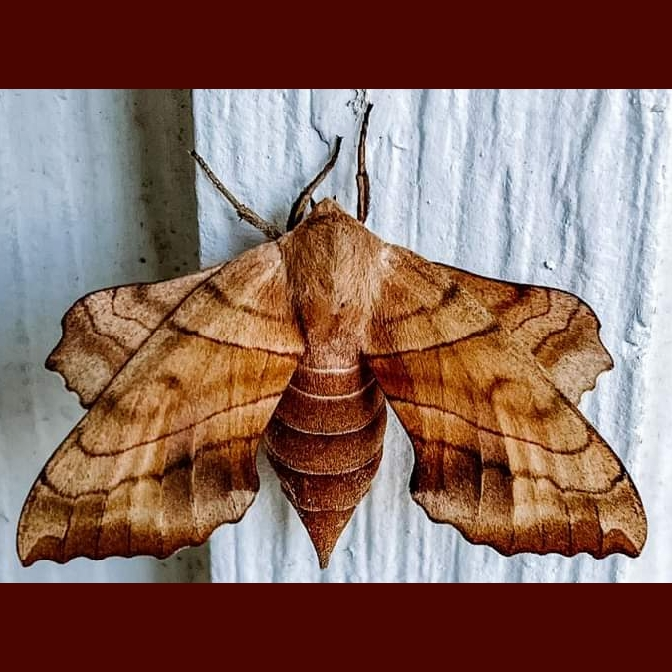Unhealthy: (14, 124, 654, 576)
